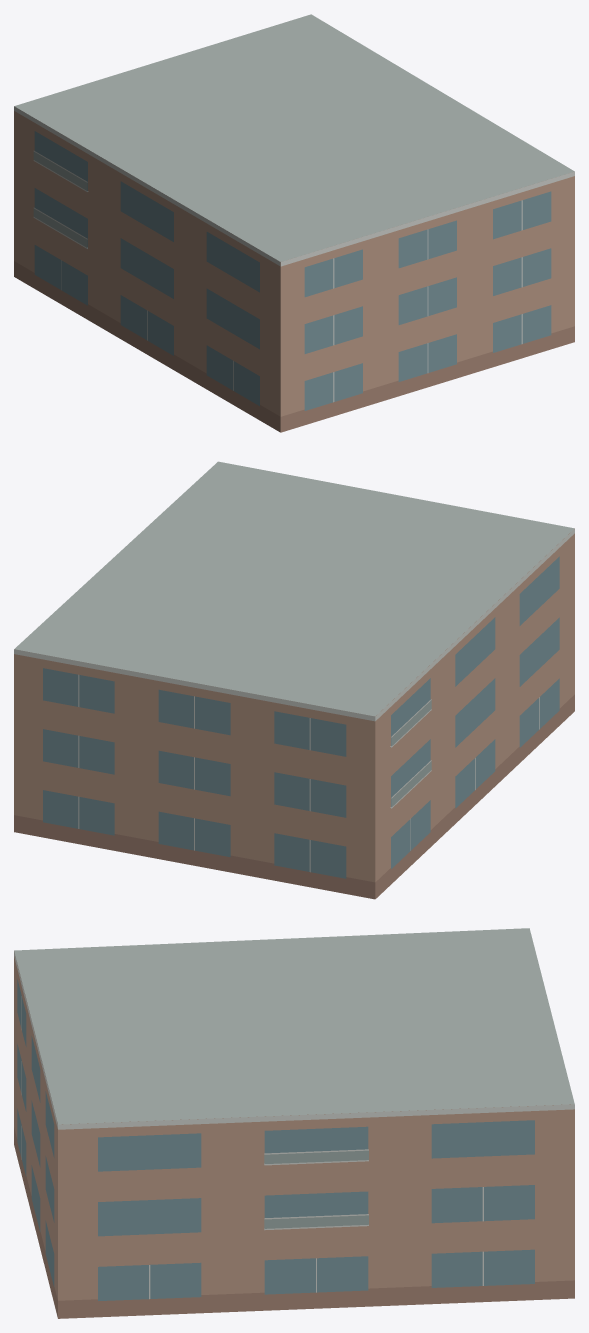
Rendered from survey-upis-32654166.glb.
3 renders of one model, top to bottom at view 1: azimuth 30°, elevation 25°; view 2: azimuth 150°, elevation 25°; view 3: azimuth 270°, elevation 25°, orthographic. The views are drawn at different scales.
Parts seen in each view (by area): view 1: survey-upis-32654166.tmp; view 2: survey-upis-32654166.tmp; view 3: survey-upis-32654166.tmp.
Part boxes in pixels (x1,y1,x2,y2): survey-upis-32654166.tmp: [14, 14, 574, 432]; survey-upis-32654166.tmp: [14, 461, 574, 899]; survey-upis-32654166.tmp: [14, 928, 574, 1318].
Size of the model in its own units: 19.86 by 9.15 by 23.95.
